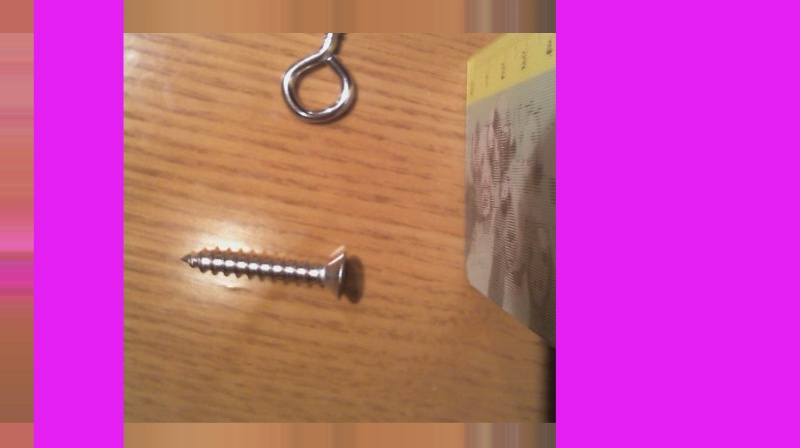O001: (277, 0, 363, 127)
S001: (180, 241, 360, 304)
